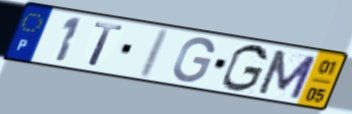1: (56, 17, 83, 65)
G: (219, 42, 270, 94), (170, 36, 217, 84)
I: (135, 27, 173, 81)
M: (254, 48, 320, 101)
T: (85, 21, 126, 69)
